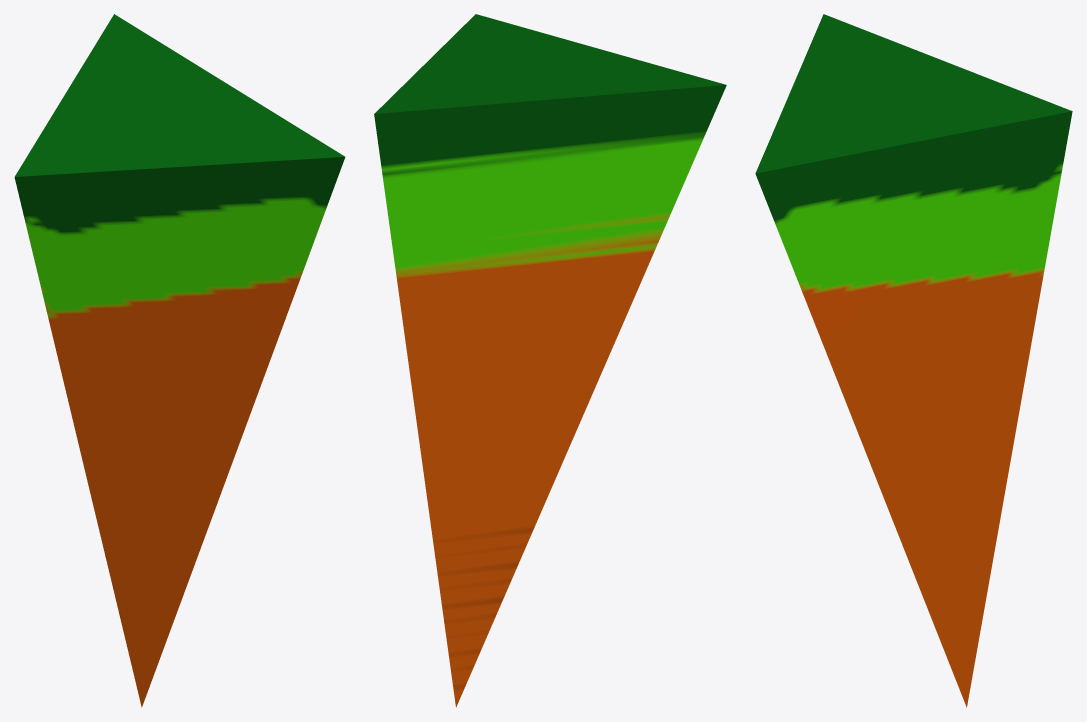
Rendered from Carrot_LOW_POLY_final.fbx.
3 renders of one model, left to right at view 1: azimuth 30°, elevation 25°; view 2: azimuth 150°, elevation 25°; view 3: azimuth 270°, elevation 25°, orthographic. The views are drawn at different scales.
Visible parts, largest first — view 1: Cube; view 2: Cube; view 3: Cube.
Boxes of the visible parts, x1,y1,x2,y2 form: Cube: [14, 14, 345, 707]; Cube: [374, 14, 726, 707]; Cube: [755, 14, 1072, 707].
Size of the model in its own units: 142 by 144 by 301.
1 material, 1 textured.
